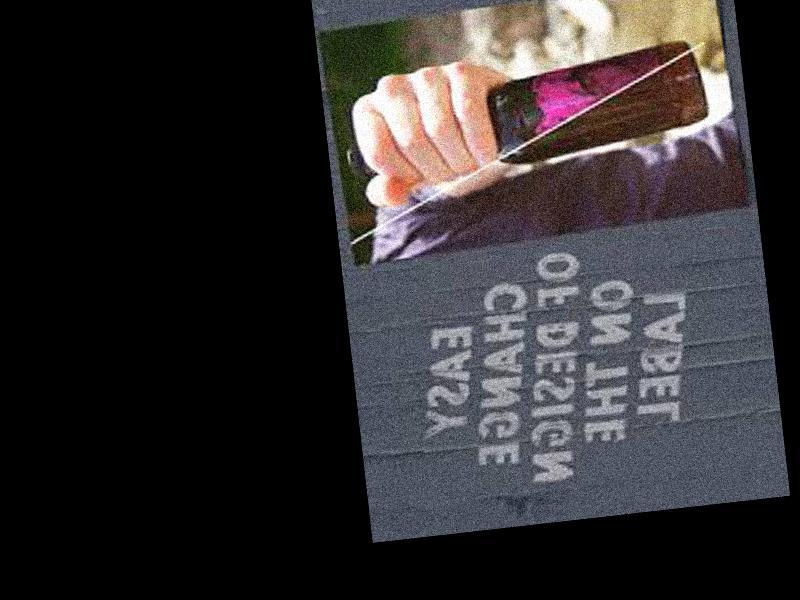Beer: (341, 43, 711, 184)
